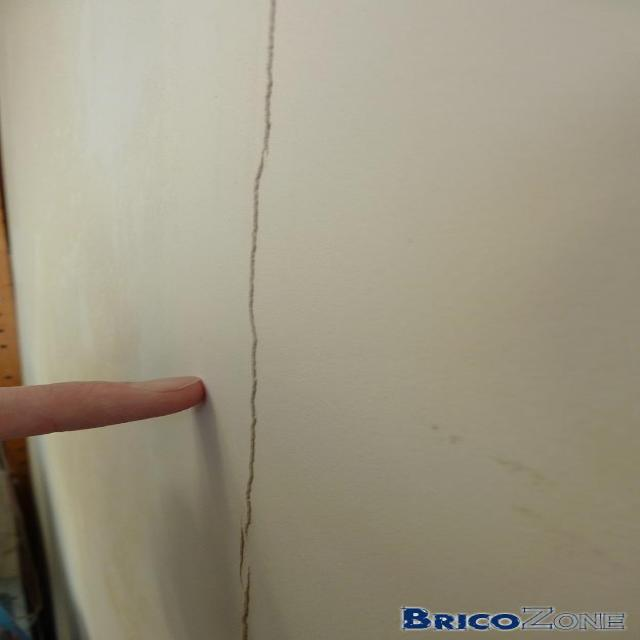crack: (231, 0, 283, 582), (237, 577, 258, 638)
